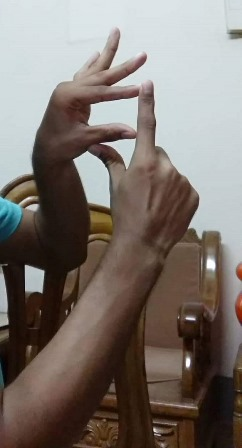k: (43, 28, 198, 244)
